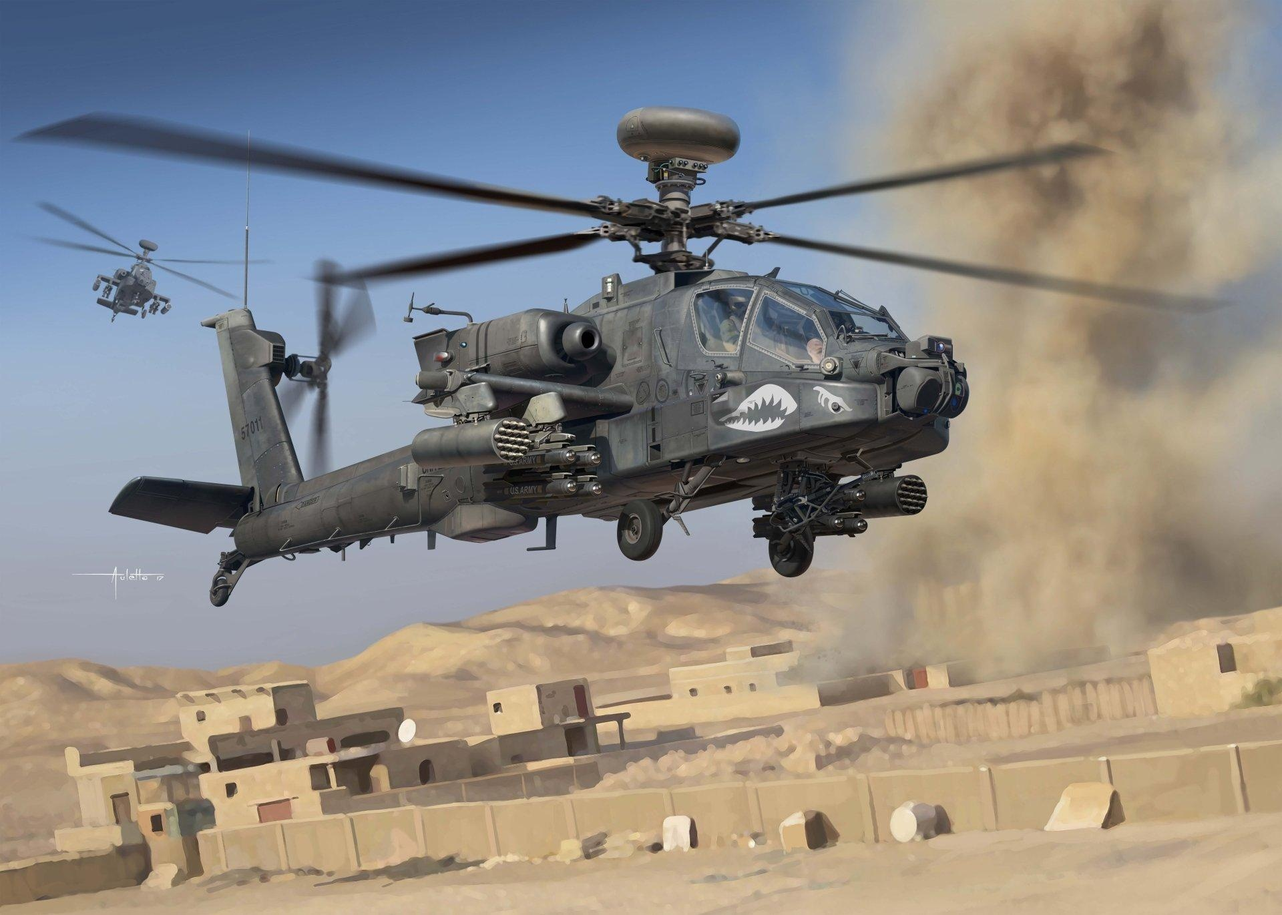aircraft: (123, 250, 971, 590)
